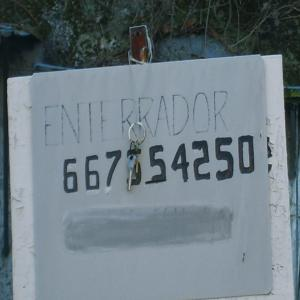Vehicle-registration-plate: (3, 53, 300, 256)
